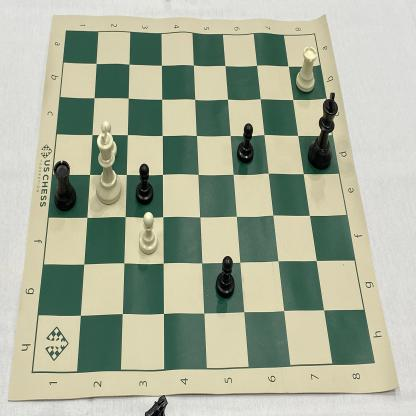black-king: (305, 86, 340, 176)
black-pawn: (211, 250, 239, 304), (233, 113, 258, 171), (132, 155, 157, 209)
black-rook: (45, 151, 80, 214)
white-king: (87, 126, 125, 209)
white-pawn: (136, 210, 164, 259), (95, 118, 121, 165)
white-rook: (292, 42, 319, 99)
